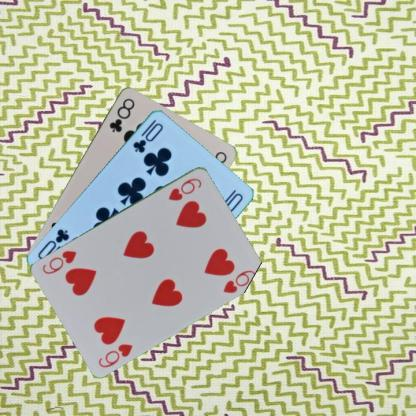10c: (130, 120, 165, 154)
6h: (95, 340, 134, 369), (166, 175, 204, 202)
8c: (106, 96, 136, 134)
